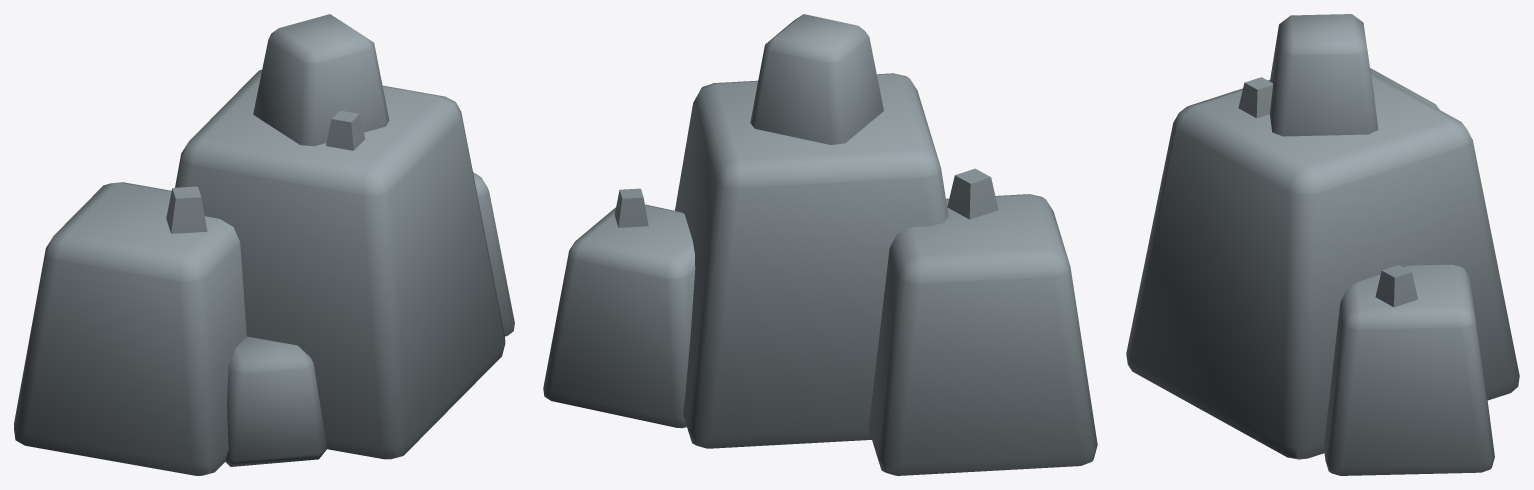
Rendered from Rock_2_F_Color1.glb.
3 views of the same model, side by side, from view 1: azimuth 30°, elevation 25°; view 2: azimuth 150°, elevation 25°; view 3: azimuth 270°, elevation 25° (orthographic).
Parts seen in each view (by area): view 1: Rock_2_F_Color1; view 2: Rock_2_F_Color1; view 3: Rock_2_F_Color1.
Boxes of the visible parts, x1=… form: Rock_2_F_Color1: x1=14, y1=14, x2=514, y2=475; Rock_2_F_Color1: x1=543, y1=14, x2=1097, y2=475; Rock_2_F_Color1: x1=1126, y1=14, x2=1519, y2=475.
Size of the model in its own units: 4.14 by 2.86 by 2.87.
Materials: 1 (1 with a texture image).
